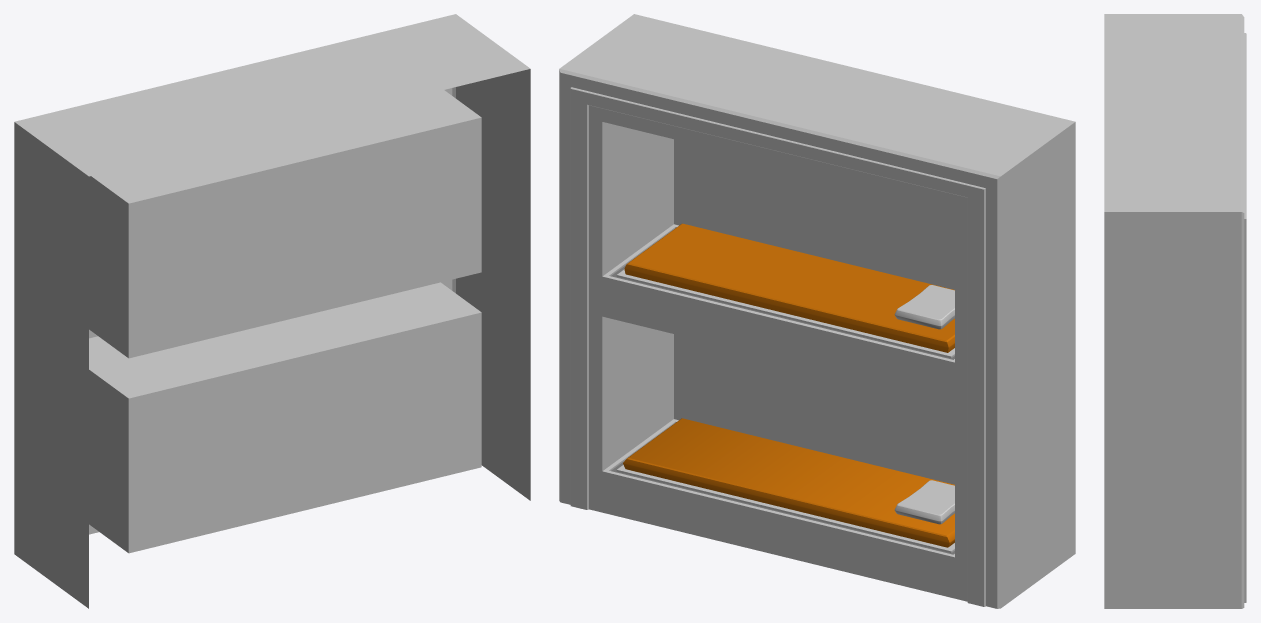
Rendered from Bed.fbx.
3 renders of one model, left to right at view 1: azimuth 30°, elevation 25°; view 2: azimuth 150°, elevation 25°; view 3: azimuth 270°, elevation 25°, orthographic. The views are drawn at different scales.
Visible parts, largest first — view 1: Bed; view 2: Bed, Pillow, Pillow.001; view 3: Bed.
Part boxes in pixels (box(x1,y1,x2,y2)): Bed: box(14, 14, 530, 608); Bed: box(559, 14, 1075, 608); Pillow: box(894, 285, 954, 329); Pillow.001: box(894, 480, 954, 524); Bed: box(1104, 14, 1246, 608).
Bounding box in the file's own units: 3.84 × 1.17 × 3.6.
